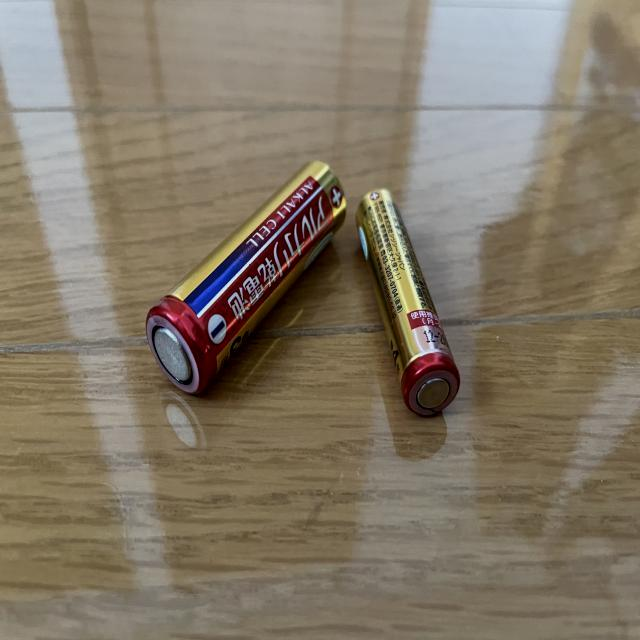AA: (142, 155, 350, 395)
AAA: (356, 188, 463, 422)
